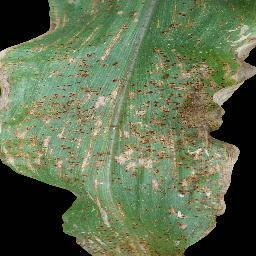Corn_Common_Rust: (94, 0, 256, 256), (0, 0, 94, 254)
